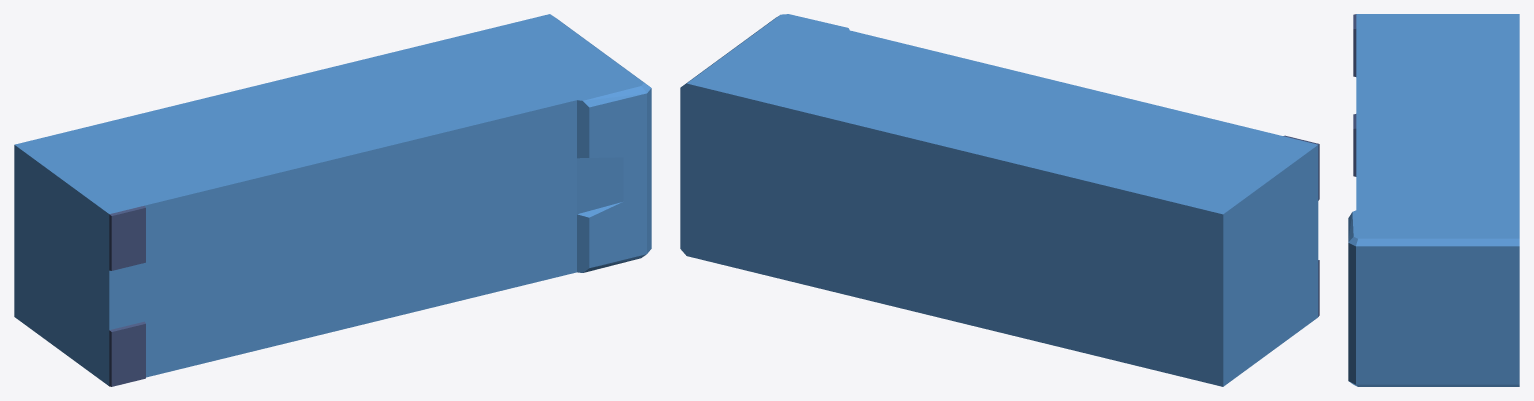
Rendered from LevelObstacle.fbx.
The picture shows the model from 3 angles, left to right: view 1: azimuth 30°, elevation 25°; view 2: azimuth 150°, elevation 25°; view 3: azimuth 270°, elevation 25°; orthographic projection. The views are drawn at different scales.
Parts seen in each view (by area): view 1: Box034; view 2: Box034; view 3: Box034.
Boxes of the visible parts, x1,y1,x2,y2 form: Box034: (14, 14, 651, 386); Box034: (680, 14, 1319, 386); Box034: (1348, 14, 1519, 386).
Size of the model in its own units: 988 by 300 by 315.
